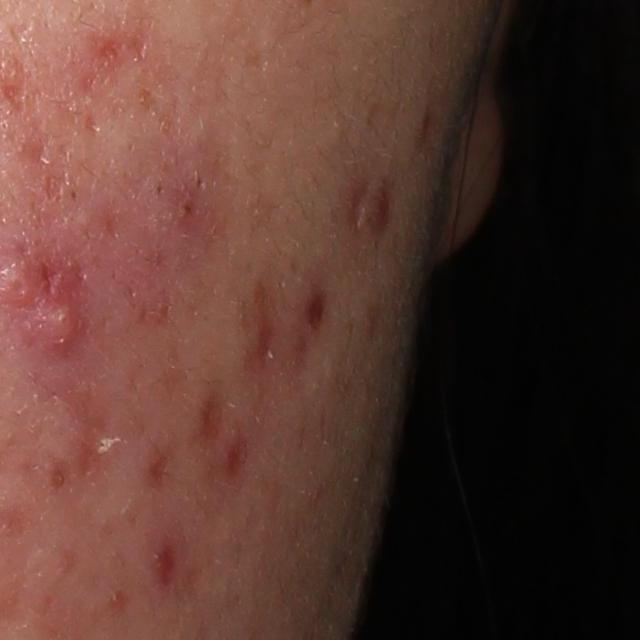atrophic_scar: (300, 272, 335, 349), (364, 174, 401, 245), (245, 303, 274, 374), (18, 119, 49, 179), (200, 391, 227, 447), (345, 181, 371, 237), (34, 250, 64, 294), (43, 172, 75, 205), (81, 111, 102, 135)
comedo: (48, 464, 69, 491)
papule: (24, 294, 90, 352)
